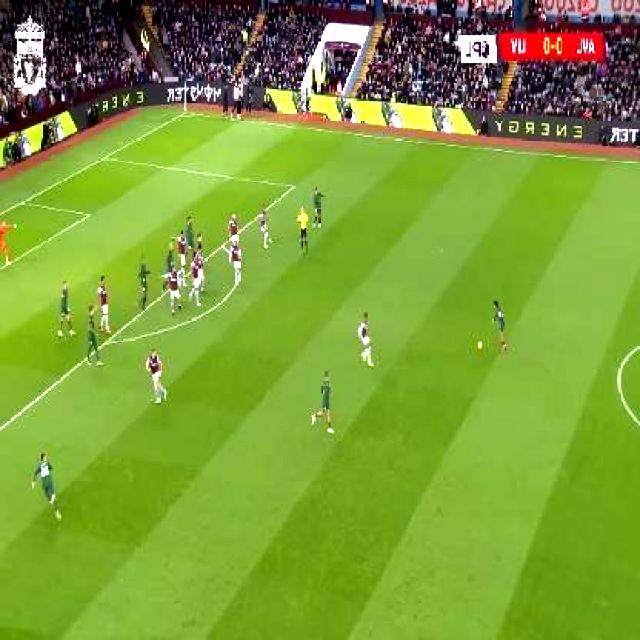bigarea_top_inner: (288, 175, 303, 194)
bigarea_top_outter: (99, 149, 112, 165)
bottom_arc_area_intersection: (102, 332, 115, 350)
corner: (180, 105, 197, 118)
smallarea_top_inner: (81, 205, 97, 223)
smallarea_top_outter: (16, 192, 30, 211)
top_arc_area_intersection: (217, 235, 231, 254)
